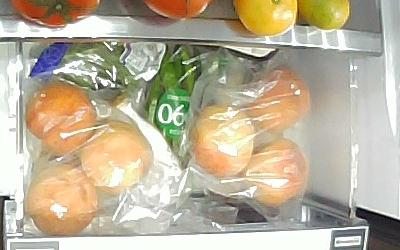peach_vinyl: (24, 83, 96, 155), (25, 163, 96, 236), (82, 120, 151, 194), (191, 103, 255, 178), (245, 138, 307, 212), (247, 64, 309, 133)
